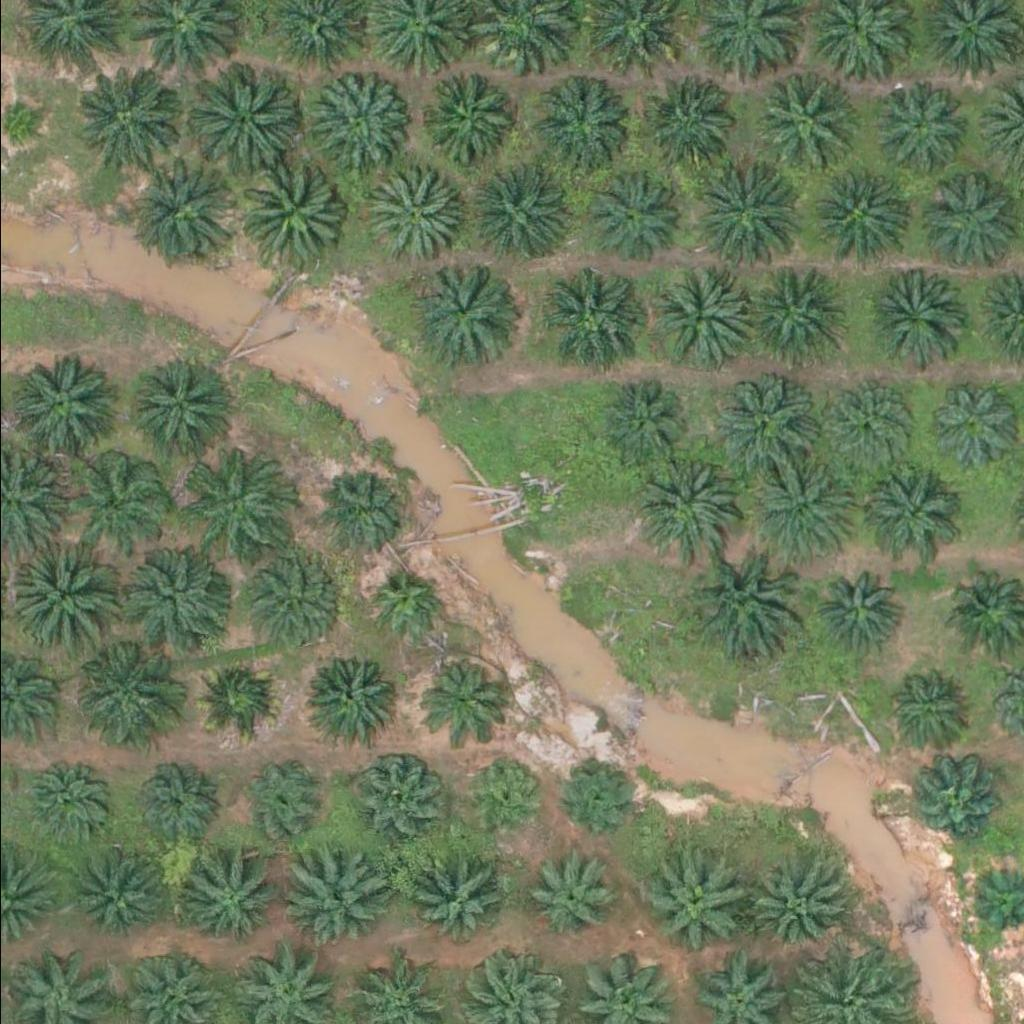Kelapa_Sawit: (10, 542, 123, 655), (125, 543, 238, 656), (185, 59, 298, 172), (68, 56, 181, 169), (685, 544, 798, 657), (66, 639, 179, 751), (233, 155, 346, 267), (125, 152, 238, 264), (748, 447, 861, 559), (690, 159, 803, 271), (918, 172, 1019, 272), (860, 270, 961, 370), (180, 850, 281, 950), (180, 444, 281, 544), (68, 450, 169, 550), (6, 356, 107, 456), (132, 362, 233, 462), (408, 259, 509, 359), (359, 166, 460, 266), (414, 64, 515, 164), (306, 71, 407, 171), (519, 843, 620, 943), (636, 453, 737, 553), (719, 378, 820, 478), (650, 262, 751, 362), (738, 262, 839, 362), (806, 166, 907, 266), (922, 378, 1022, 478), (858, 464, 958, 564), (400, 849, 500, 949), (284, 852, 384, 952), (246, 551, 346, 651), (458, 164, 558, 264), (746, 859, 846, 959), (640, 850, 740, 950), (541, 268, 641, 368), (582, 164, 682, 264), (537, 76, 637, 176), (757, 68, 857, 168), (641, 73, 741, 173), (826, 383, 915, 471), (904, 759, 992, 847), (76, 852, 164, 940), (455, 753, 543, 841), (237, 757, 325, 845), (125, 758, 213, 846), (20, 758, 108, 846), (317, 466, 405, 554), (877, 664, 965, 751), (874, 82, 962, 169), (354, 755, 442, 842), (413, 657, 501, 744), (308, 653, 396, 740), (190, 653, 278, 740), (554, 755, 642, 842), (808, 570, 896, 657), (601, 379, 689, 466), (363, 569, 439, 644)
